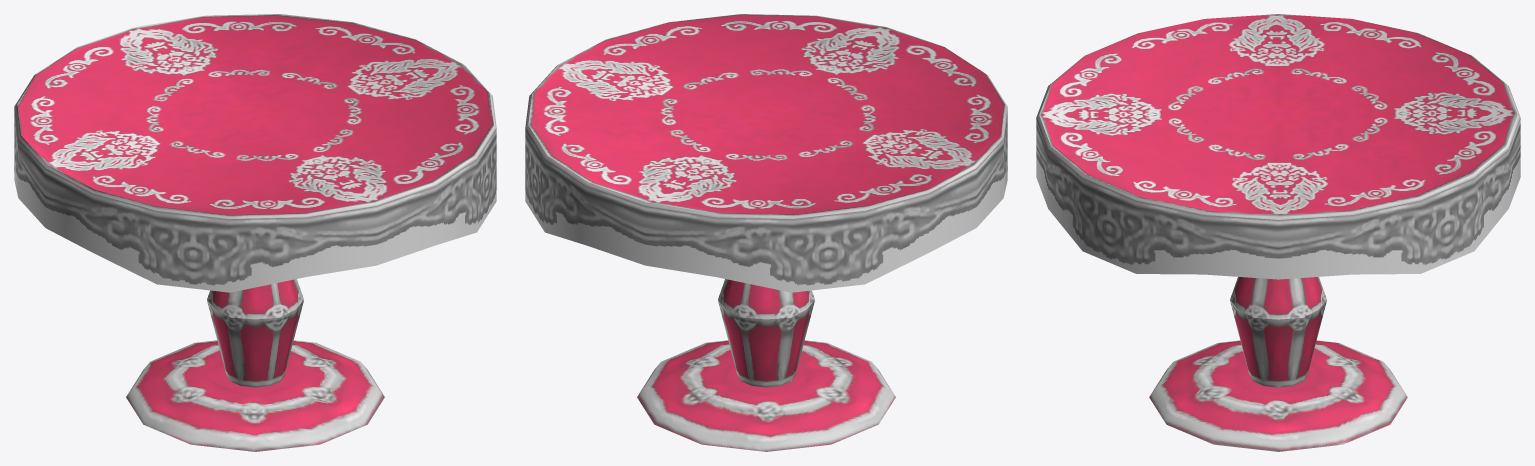
Rendered from QueenRoundTable_HD.fbx.
3 renders of one model, left to right at view 1: azimuth 30°, elevation 25°; view 2: azimuth 150°, elevation 25°; view 3: azimuth 270°, elevation 25°, orthographic.
Parts seen in each view (by area): view 1: QueenRoundTable; view 2: QueenRoundTable; view 3: QueenRoundTable.
Part boxes in pixels (left/top/right/bottom): QueenRoundTable: left=14, top=14, right=496, bottom=451; QueenRoundTable: left=525, top=14, right=1007, bottom=451; QueenRoundTable: left=1036, top=14, right=1520, bottom=451.
Size of the model in its own units: 0.941 by 0.6049 by 0.941.
